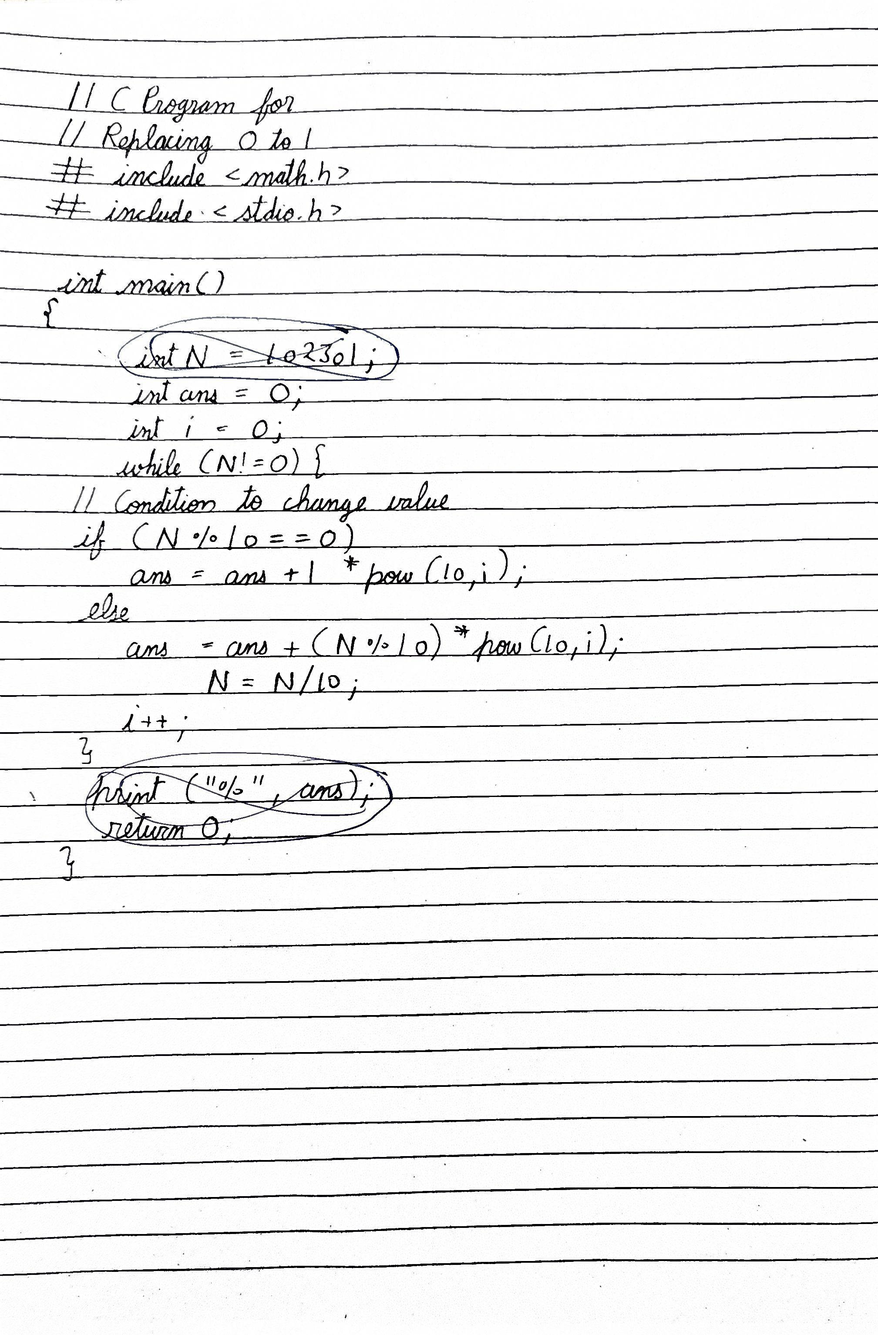cuttings: (82, 749, 395, 850), (114, 315, 402, 382)
